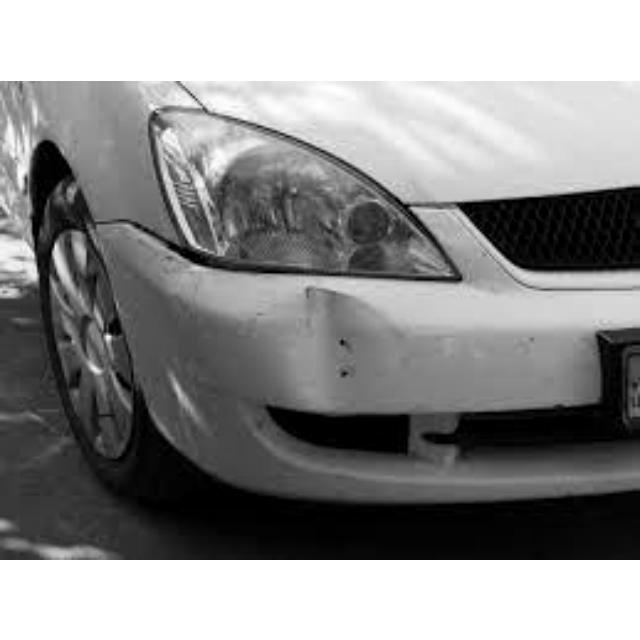front-bumper-dent: (65, 231, 457, 500)
